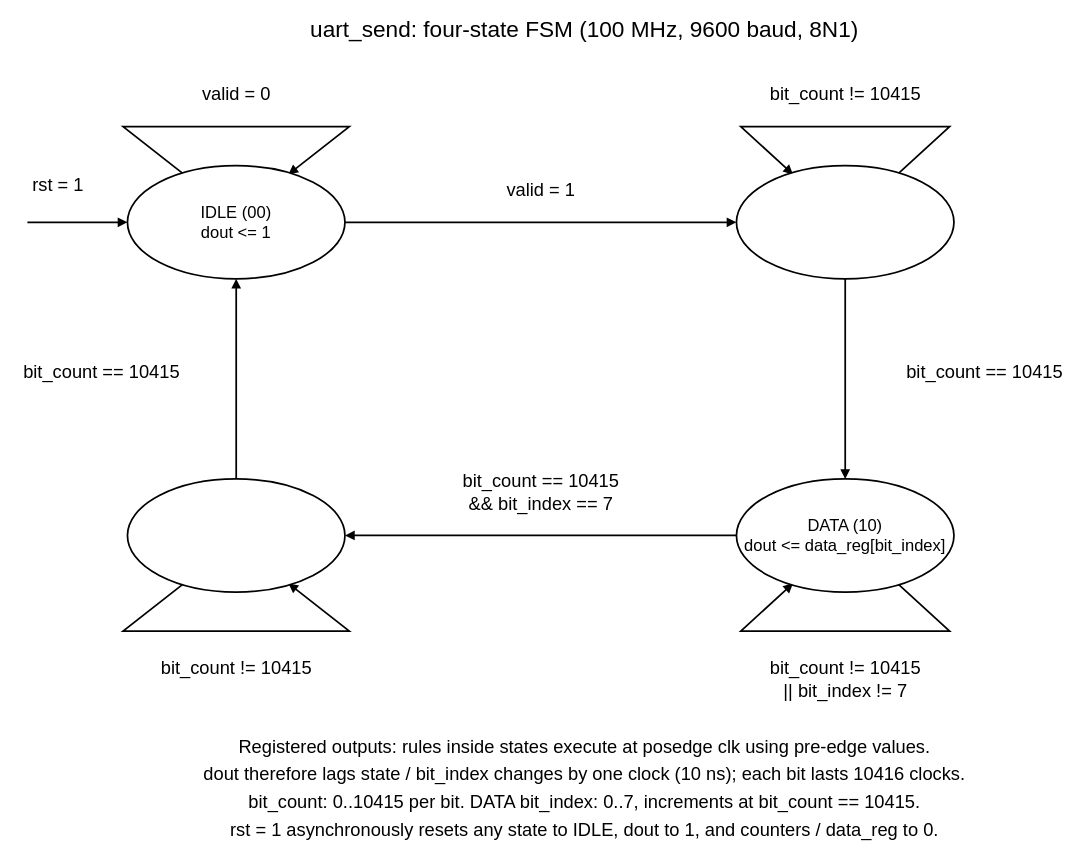
Some shapes in this 1087 by 855 pixel diagram are drawn without their labels. Here are the shapes that lost their labels. From the top down, the centre of each, then its label:
At (x=844, y=221): "START (01) dout <= 0".
At (x=235, y=535): "STOP (11) dout <= 1".
